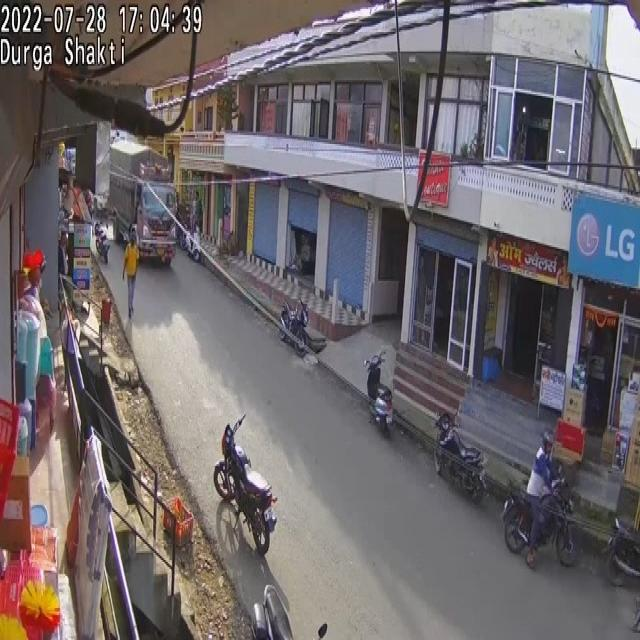non-fight: (526, 429, 562, 568), (184, 176, 211, 259), (124, 227, 142, 319)
